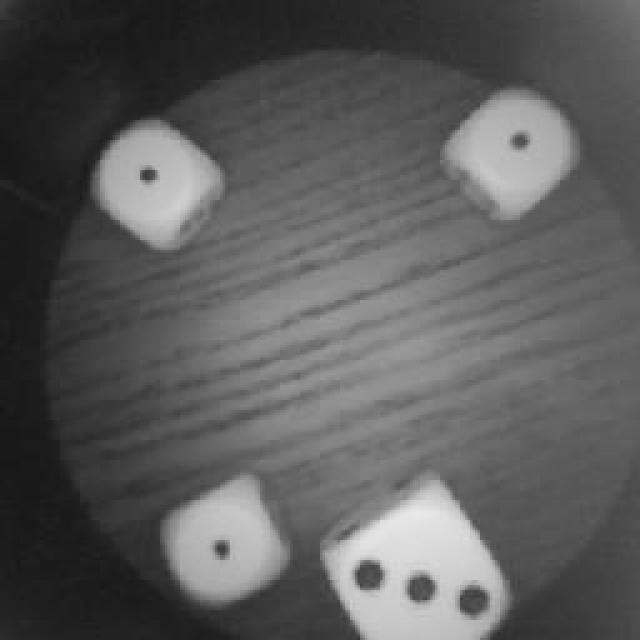dice_1: (442, 78, 588, 218), (162, 470, 292, 608), (90, 118, 218, 248)
dice_3: (330, 475, 518, 640)
